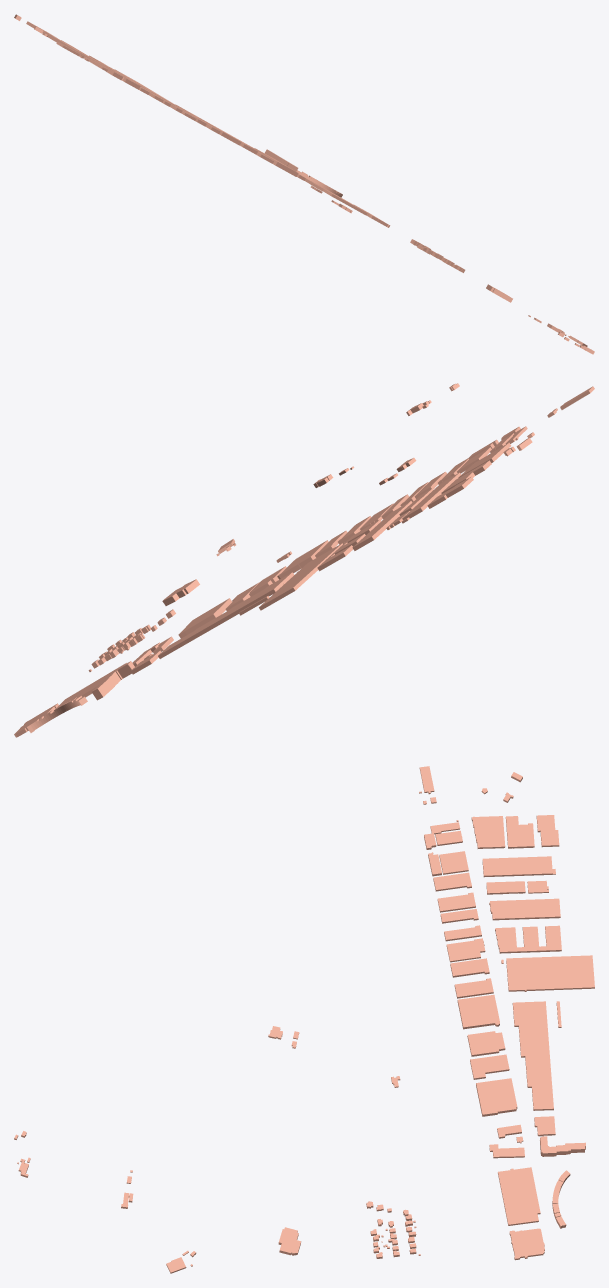
3 renders of one model, top to bottom at view 1: azimuth 30°, elevation 25°; view 2: azimuth 150°, elevation 25°; view 3: azimuth 270°, elevation 25°, orthographic. The views are drawn at different scales.
Bounding box in the file's own units: 976 × 717 × 1213.
